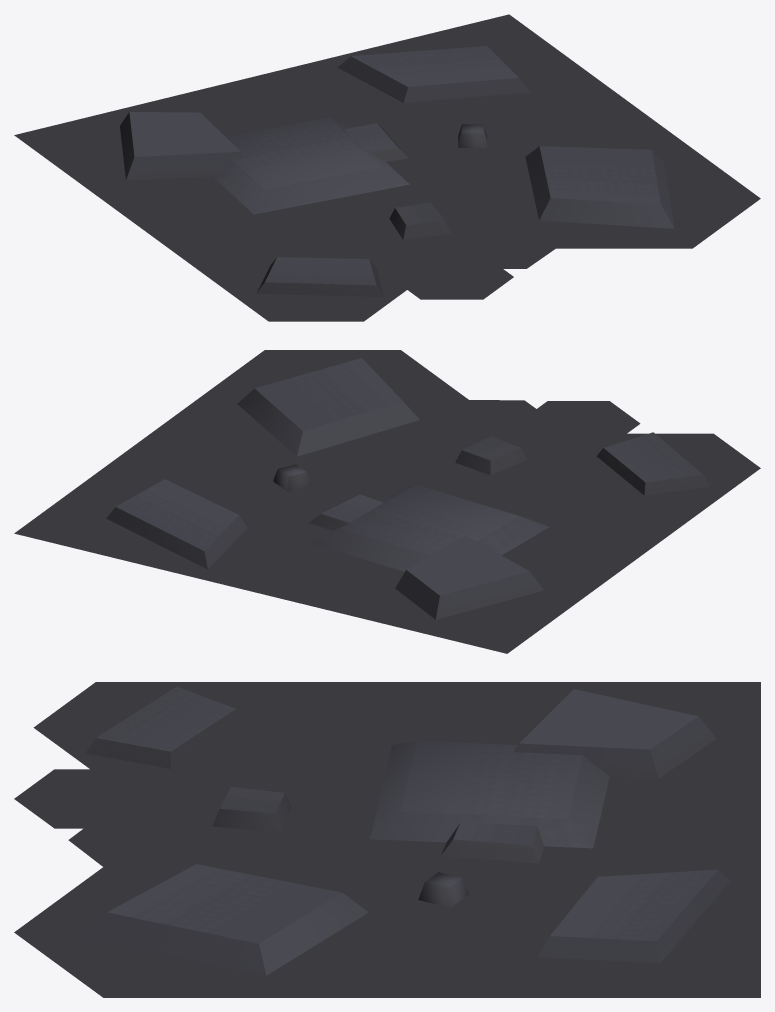
The model's file is Fire-Floor-Border-Pebbles.fbx.
The picture shows the model from 3 angles, top to bottom: view 1: azimuth 30°, elevation 25°; view 2: azimuth 150°, elevation 25°; view 3: azimuth 270°, elevation 25°; orthographic projection. The views are drawn at different scales.
Visible parts, largest first — view 1: Floor_Border_Pebbles.001; view 2: Floor_Border_Pebbles.001; view 3: Floor_Border_Pebbles.001.
Boxes of the visible parts, <box> form: Floor_Border_Pebbles.001: <box>14,14,760,321</box>; Floor_Border_Pebbles.001: <box>14,350,760,653</box>; Floor_Border_Pebbles.001: <box>14,682,760,997</box>.
Size of the model in its own units: 1 by 0.0358 by 1.
